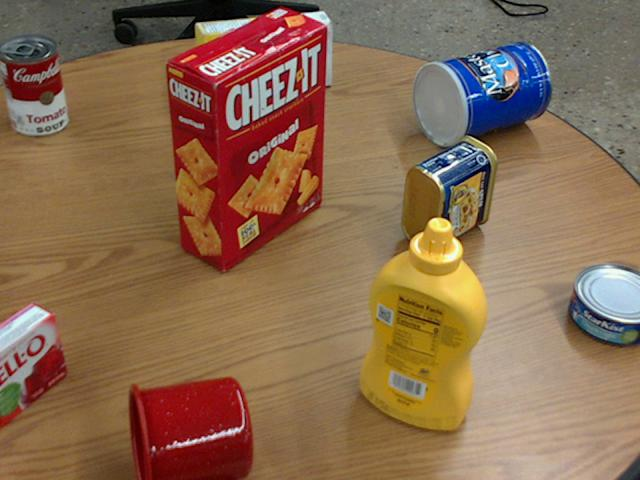cracker_box: (165, 7, 328, 270)
gelatin_box: (0, 301, 63, 423)
master_chef_can: (412, 41, 550, 145)
mug: (125, 376, 250, 479)
mustard_bottle: (359, 217, 486, 429)
potted_meat_can: (402, 135, 497, 250)
sugar_box: (196, 10, 334, 98)
tomato_soup_can: (0, 33, 67, 135)
tuna_fish_can: (568, 263, 639, 345)
